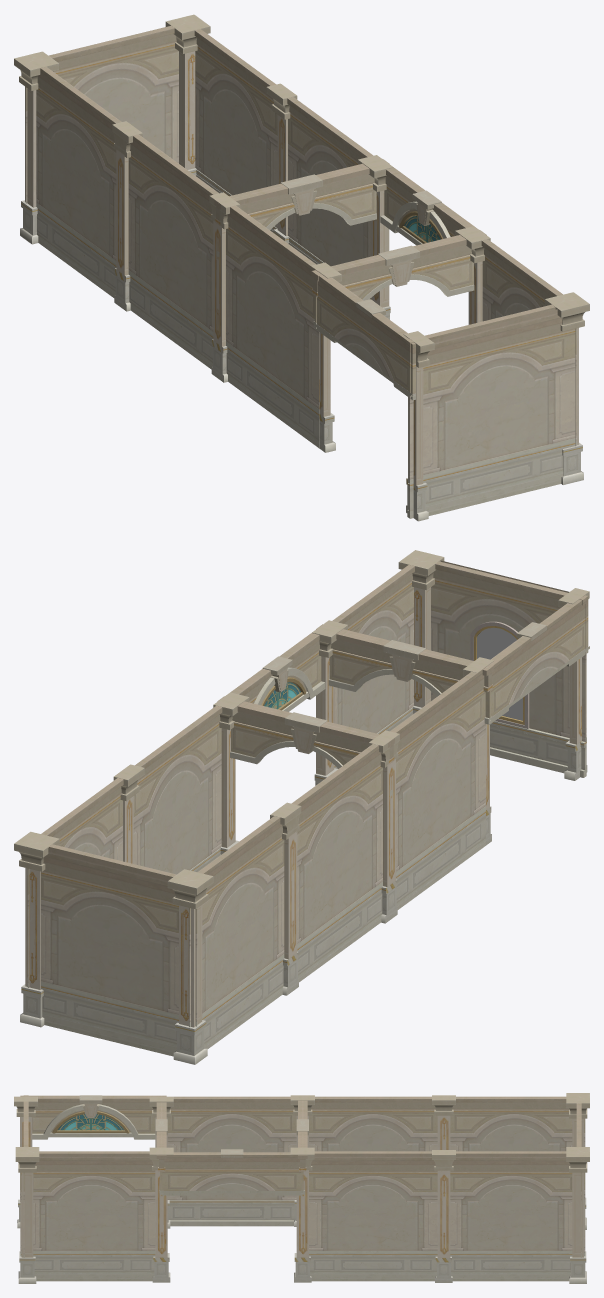
Rendered from Homeworld_Interior_Fd_Room_O_Wall_01_Vo.fbx.
3 views of the same model, one above another, from view 1: azimuth 30°, elevation 25°; view 2: azimuth 150°, elevation 25°; view 3: azimuth 270°, elevation 25° (orthographic). The views are drawn at different scales.
Visible parts, largest first — view 1: Homeworld_Interior_Fd_Room_Wall_01_Vo (×7), Homeworld_Interior_Fd_Room_O_Filling_01_Vo, Homeworld_Interior_Fd_Room_Pillar_02_Vo (×7), Homeworld_Interior_Fd_Room_Wall_04_Vo (×2), Homeworld_Interior_Fd_Room_Door_02_Vo (×2), Homeworld_Interior_Fd_Room_Pillar_01_Vo (×3), Homeworld_Interior_Fd_Room_Wall_02_Vo; view 2: Homeworld_Interior_Fd_Room_Wall_01_Vo (×7), Homeworld_Interior_Fd_Room_O_Filling_01_Vo, Homeworld_Interior_Fd_Room_Wall_02_Vo, Homeworld_Interior_Fd_Room_Pillar_02_Vo (×7), Homeworld_Interior_Fd_Room_Wall_04_Vo (×2), Homeworld_Interior_Fd_Room_Pillar_01_Vo (×3), Homeworld_Interior_Fd_Room_Door_02_Vo (×2); view 3: Homeworld_Interior_Fd_Room_O_Filling_01_Vo, Homeworld_Interior_Fd_Room_Wall_01_Vo (×7), Homeworld_Interior_Fd_Room_Door_02_Vo (×2), Homeworld_Interior_Fd_Room_Pillar_02_Vo (×7), Homeworld_Interior_Fd_Room_Pillar_01_Vo (×3), Homeworld_Interior_Fd_Room_Wall_04_Vo (×2), Homeworld_Interior_Fd_Room_Wall_02_Vo.
Boxes of the visible parts, x1,y1,x2,y2 form: Homeworld_Interior_Fd_Room_Wall_01_Vo (×7): (25, 26, 576, 447); Homeworld_Interior_Fd_Room_O_Filling_01_Vo: (423, 309, 575, 515); Homeworld_Interior_Fd_Room_Pillar_02_Vo (×7): (112, 83, 490, 521); Homeworld_Interior_Fd_Room_Wall_04_Vo (×2): (214, 159, 486, 328); Homeworld_Interior_Fd_Room_Door_02_Vo (×2): (314, 167, 473, 400); Homeworld_Interior_Fd_Room_Pillar_01_Vo (×3): (14, 14, 589, 484); Homeworld_Interior_Fd_Room_Wall_02_Vo: (406, 304, 555, 518); Homeworld_Interior_Fd_Room_Wall_01_Vo (×7): (27, 565, 485, 1048); Homeworld_Interior_Fd_Room_O_Filling_01_Vo: (41, 560, 568, 1056); Homeworld_Interior_Fd_Room_Wall_02_Vo: (431, 561, 586, 777); Homeworld_Interior_Fd_Room_Pillar_02_Vo (×7): (113, 588, 589, 995); Homeworld_Interior_Fd_Room_Wall_04_Vo (×2): (217, 624, 493, 796); Homeworld_Interior_Fd_Room_Pillar_01_Vo (×3): (14, 550, 444, 1064); Homeworld_Interior_Fd_Room_Door_02_Vo (×2): (230, 595, 589, 724); Homeworld_Interior_Fd_Room_O_Filling_01_Vo: (21, 1154, 572, 1281); Homeworld_Interior_Fd_Room_Wall_01_Vo (×7): (20, 1096, 585, 1257); Homeworld_Interior_Fd_Room_Door_02_Vo (×2): (20, 1095, 302, 1195); Homeworld_Interior_Fd_Room_Pillar_02_Vo (×7): (14, 1095, 455, 1282); Homeworld_Interior_Fd_Room_Pillar_01_Vo (×3): (15, 1093, 589, 1283); Homeworld_Interior_Fd_Room_Wall_04_Vo (×2): (155, 1095, 308, 1194); Homeworld_Interior_Fd_Room_Wall_02_Vo: (23, 1095, 28, 1257).
Size of what is drawn, in the model's own units: 5.35 by 5.02 by 20.4.
